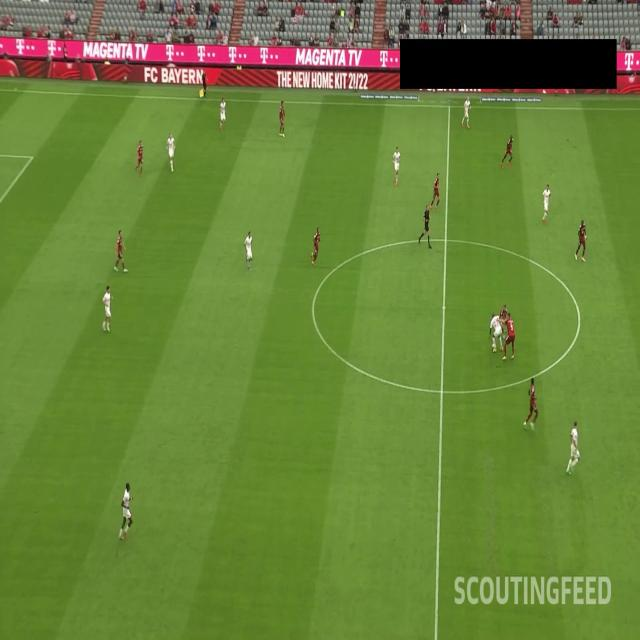ball: (491, 340, 499, 352)
player: (116, 476, 134, 547), (521, 372, 540, 431), (565, 419, 581, 479), (488, 309, 504, 356), (113, 224, 128, 274), (101, 286, 116, 334), (428, 166, 442, 212), (388, 146, 404, 186), (503, 311, 516, 360), (500, 131, 516, 170), (274, 98, 289, 138), (459, 94, 475, 131), (242, 228, 255, 272), (132, 136, 146, 176), (574, 216, 586, 262), (166, 131, 178, 172), (541, 182, 553, 222), (311, 221, 321, 265), (499, 300, 508, 343), (217, 94, 228, 129)
referee: (416, 198, 433, 250), (200, 67, 209, 100)
